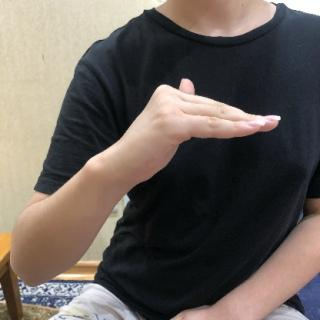KHAA: (95, 76, 288, 204)
